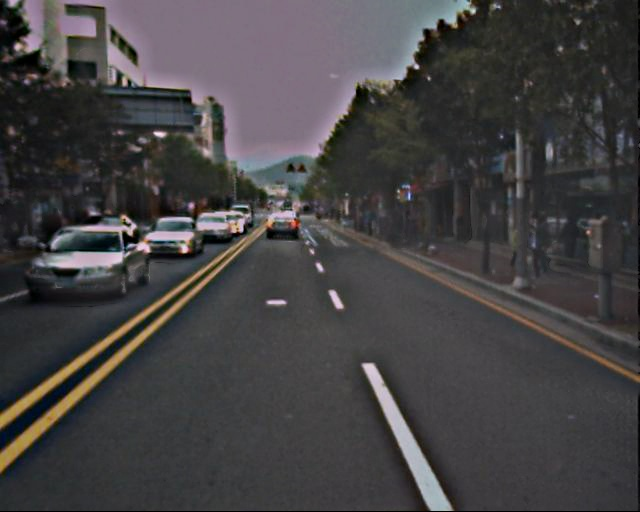person: (523, 212, 550, 279), (559, 217, 579, 262)
